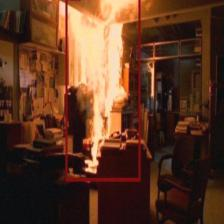fire: (66, 0, 140, 181)
